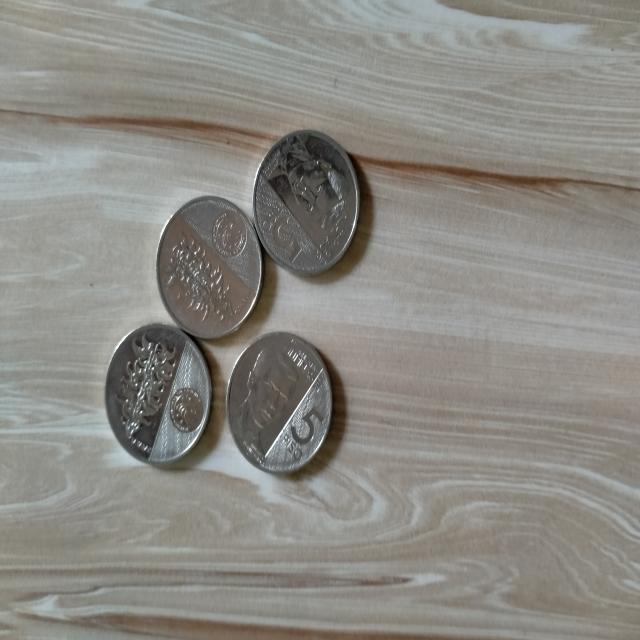5_New_Back: (164, 224, 242, 342), (110, 324, 170, 444)
5_New_Front: (272, 395, 325, 482), (256, 195, 311, 266)
